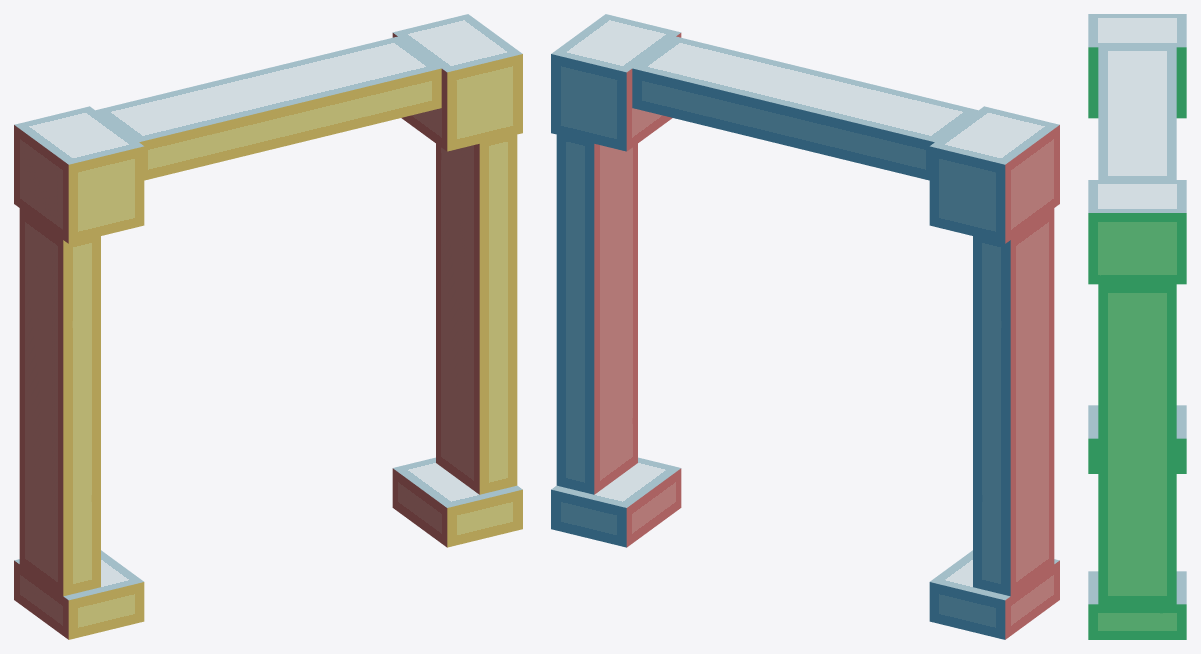
File: arch.fbx
3 views of the same model, side by side, from view 1: azimuth 30°, elevation 25°; view 2: azimuth 150°, elevation 25°; view 3: azimuth 270°, elevation 25° (orthographic). The views are drawn at different scales.
Visible parts, largest first — view 1: cuboid, cuboid_1, cuboid_2, cuboid_6, cuboid_5, cuboid_4, cuboid_3; view 2: cuboid, cuboid_1, cuboid_2, cuboid_6, cuboid_5, cuboid_4, cuboid_3; view 3: cuboid_1, cuboid_2, cuboid_5, cuboid_6, cuboid_4, cuboid_3.
Part boxes in pixels (x1,y1,x2,y2): cuboid: [19, 208, 100, 596]; cuboid_1: [436, 134, 517, 494]; cuboid_2: [96, 36, 441, 180]; cuboid_6: [14, 106, 144, 243]; cuboid_5: [392, 14, 522, 151]; cuboid_4: [392, 457, 522, 547]; cuboid_3: [14, 550, 144, 639]; cuboid: [973, 208, 1054, 596]; cuboid_1: [556, 134, 637, 494]; cuboid_2: [632, 36, 977, 180]; cuboid_6: [929, 106, 1059, 243]; cuboid_5: [551, 14, 681, 151]; cuboid_4: [551, 457, 681, 547]; cuboid_3: [929, 550, 1059, 639]; cuboid_1: [1098, 284, 1176, 604]; cuboid_2: [1098, 47, 1176, 179]; cuboid_5: [1088, 180, 1186, 284]; cuboid_6: [1088, 14, 1186, 118]; cuboid_4: [1088, 571, 1186, 639]; cuboid_3: [1088, 405, 1186, 473].
Bounding box in the file's own units: 300 × 300 × 62.5.
1 material, 1 textured.
